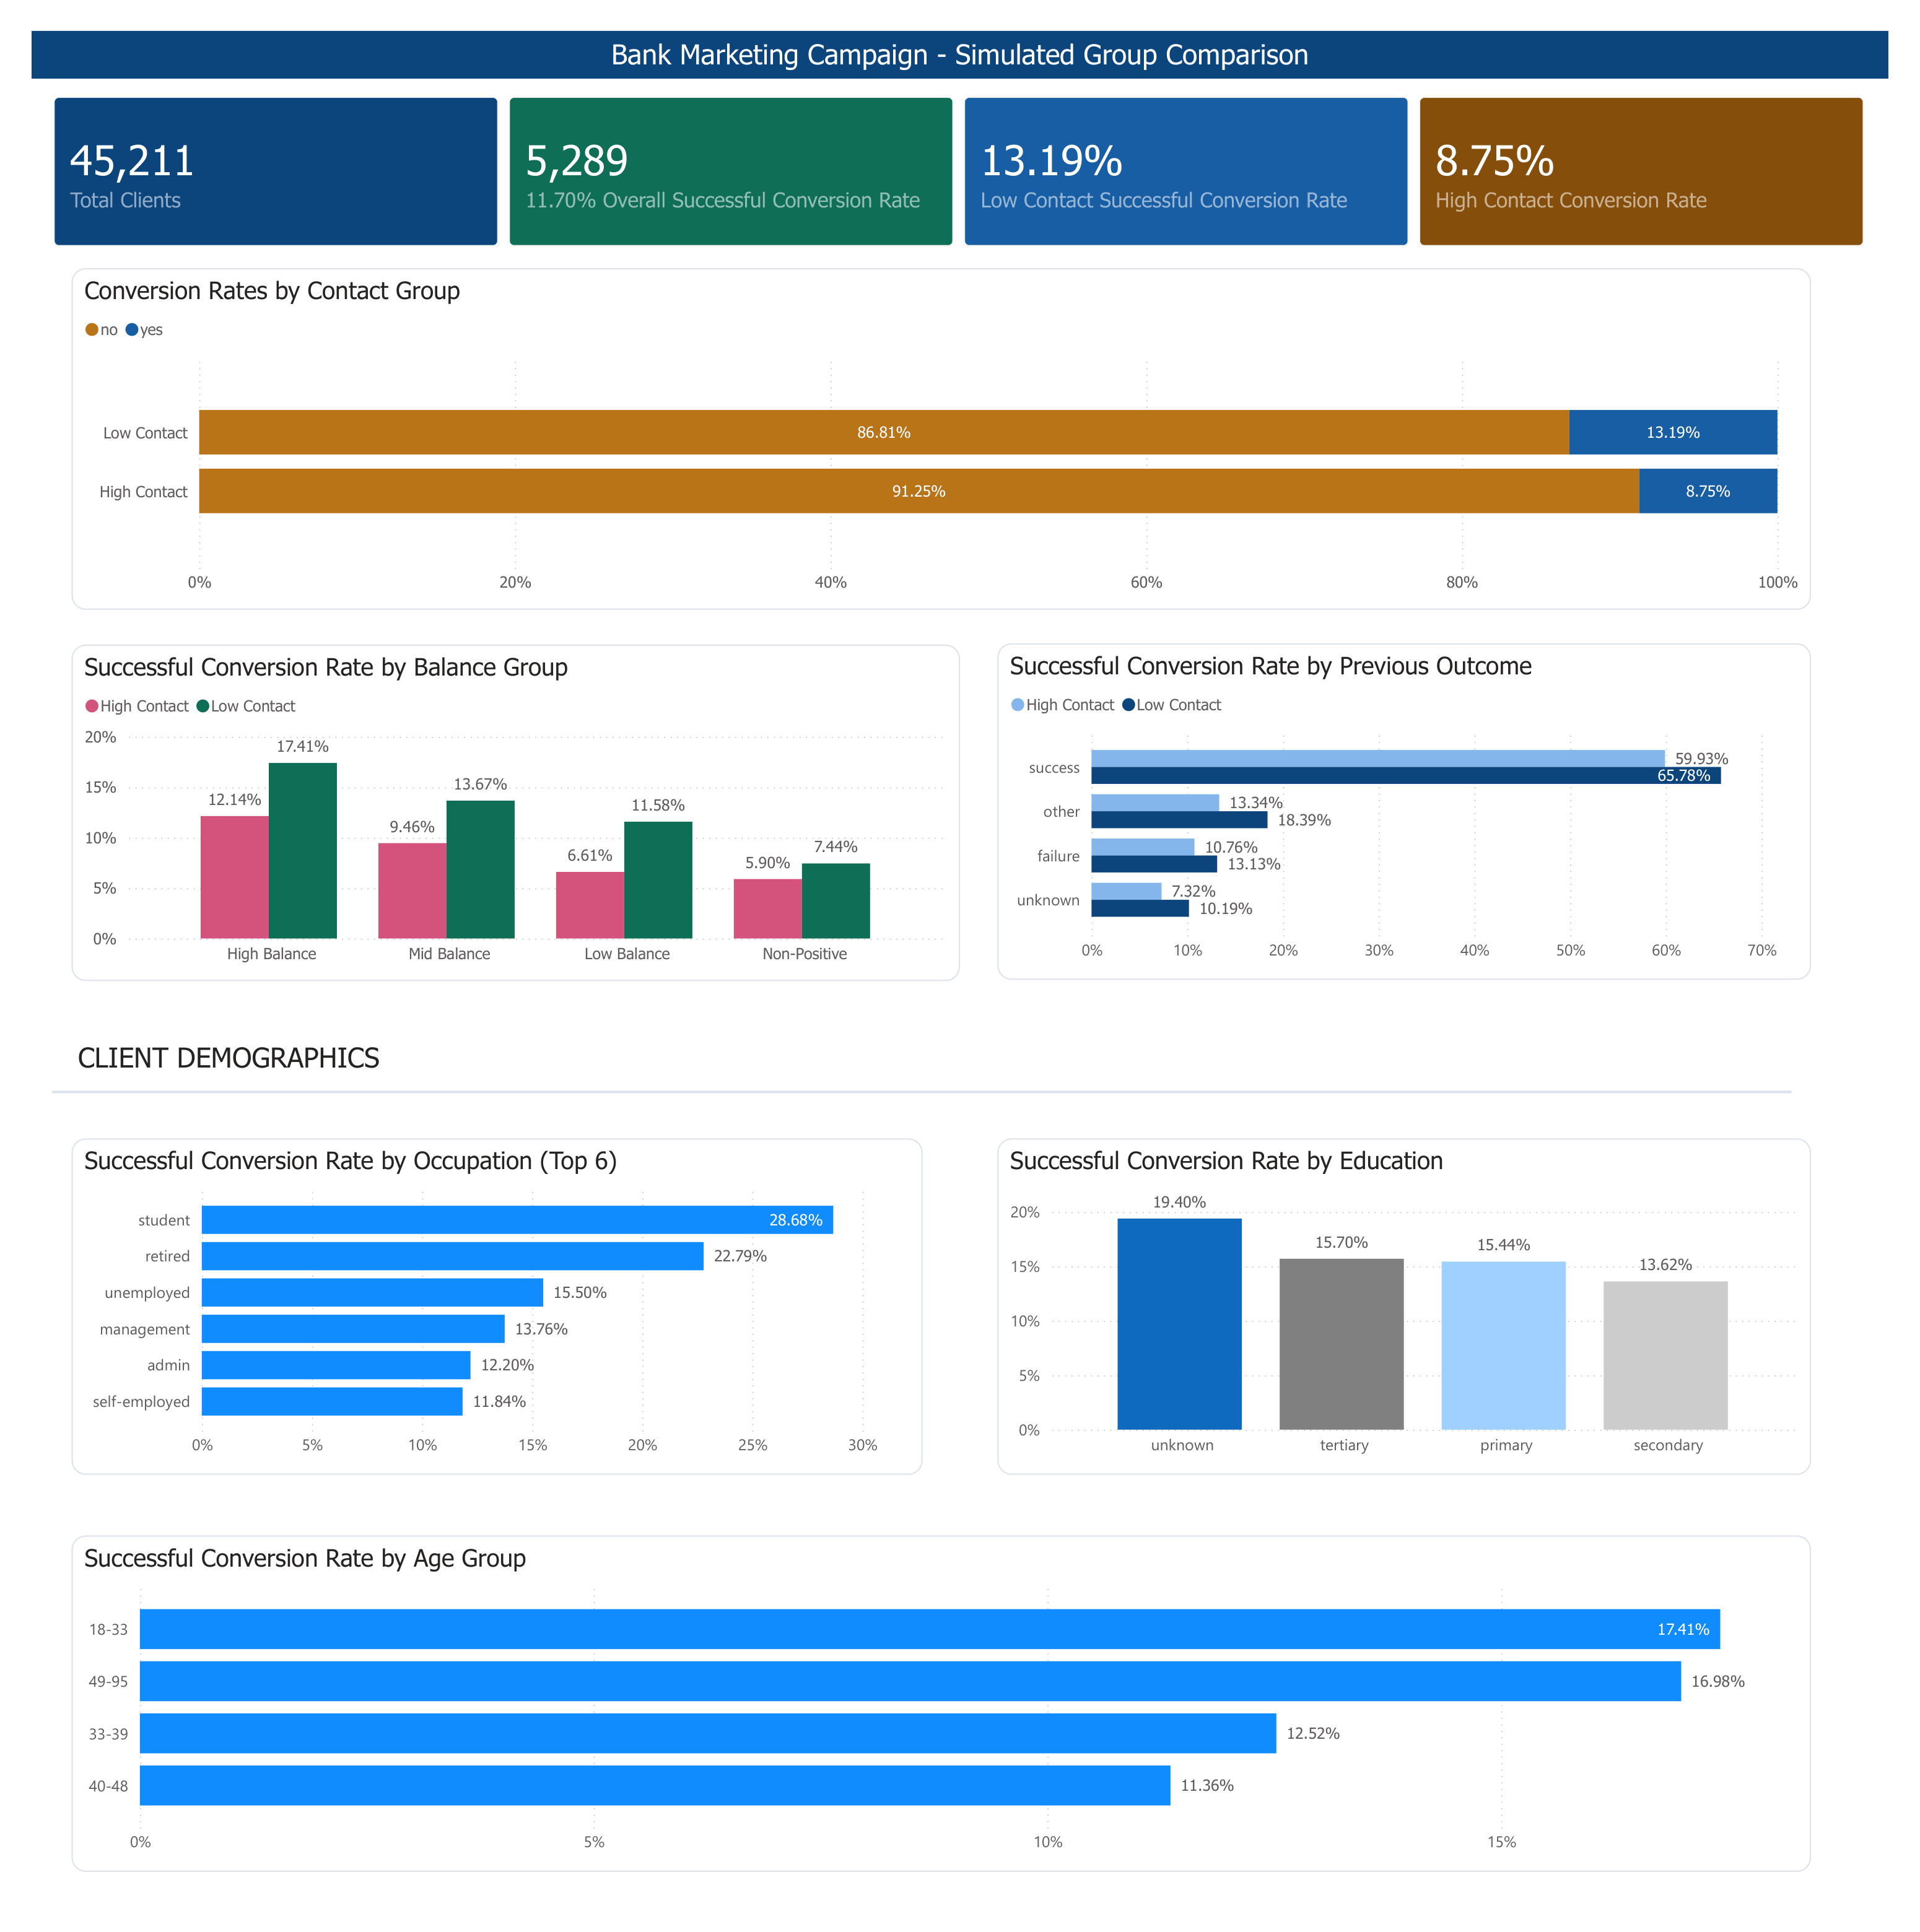

The dashboard page shown, as its layout file describes it:
{"tool":"powerbi","page":{"name":"A/B TESTING DASHBOARD","canvas":[1440,1450],"ordinal":0},"visuals":[{"type":"textbox","box":[0,0,1440,37],"z":0},{"type":"cardVisual","fields":{"Data":["bank_marketing_dashboard.Total Clients","Sum(bank_marketing_dashboard.conversion)","bank_marketing_dashboard.Low Contact Conversion Rate","bank_marketing_dashboard.High Contact Conversion Rate"]},"box":[0,33.8,1440,150],"z":1000},{"type":"hundredPercentStackedBarChart","title":"Conversion Rates by Contact Group","fields":{"Category":["bank_marketing_dashboard.contact_group"],"Series":["bank_marketing_dashboard.y"],"Y":["bank_marketing_dashboard.Total Clients"]},"box":[31.2,183.8,1348.8,265],"z":2000},{"type":"clusteredColumnChart","title":"Successful Conversion Rate by Balance Group","fields":{"Y":["bank_marketing_dashboard.Conversion Rate"],"Series":["bank_marketing_dashboard.contact_group"],"Category":["bank_marketing_dashboard.balance_group"]},"box":[31.1,475.6,688.9,261.1],"z":3000},{"type":"clusteredBarChart","title":"Successful Conversion Rate by Previous Outcome","fields":{"Y":["bank_marketing_dashboard.Conversion Rate"],"Series":["bank_marketing_dashboard.contact_group"],"Category":["bank_marketing_dashboard.poutcome"]},"box":[748.8,475,631.2,261.2],"z":4000},{"type":"textbox","box":[31.2,777.5,660,45],"z":5000},{"type":"shape","box":[16.2,747.5,1348.8,150],"z":6000},{"type":"clusteredBarChart","title":"Successful Conversion Rate by Occupation (Top 6)","fields":{"Y":["bank_marketing_dashboard.Conversion Rate"],"Category":["bank_marketing_dashboard.job"]},"box":[31.1,858.9,660,261.1],"z":7000},{"type":"columnChart","title":"Successful Conversion Rate by Education","fields":{"Y":["bank_marketing_dashboard.Conversion Rate"],"Category":["bank_marketing_dashboard.education"]},"box":[748.8,858.8,631.2,261.2],"z":8000},{"type":"clusteredBarChart","title":"Successful Conversion Rate by Age Group","fields":{"Y":["bank_marketing_dashboard.Conversion Rate"],"Category":["bank_marketing_dashboard.age_group"]},"box":[31.1,1166.7,1348.9,261.1],"z":9000}]}

Visuals, with their boxes in screenshot pixels (x1, y1, x2, y2), scaled from the page's 1440x1450 canvas onto the 1920x1932 screenshot:
textbox: bbox(0, 0, 1919, 50)
cardVisual - bank_marketing_dashboard.Total Clients x Sum(bank_marketing_dashboard.conversion): bbox(0, 45, 1919, 245)
"Conversion Rates by Contact Group" hundredPercentStackedBarChart: bbox(41, 245, 1840, 598)
"Successful Conversion Rate by Balance Group" clusteredColumnChart: bbox(41, 633, 960, 981)
"Successful Conversion Rate by Previous Outcome" clusteredBarChart: bbox(998, 633, 1840, 981)
textbox: bbox(41, 1036, 922, 1096)
shape: bbox(22, 996, 1820, 1196)
"Successful Conversion Rate by Occupation (Top 6)" clusteredBarChart: bbox(41, 1144, 922, 1492)
"Successful Conversion Rate by Education" columnChart: bbox(998, 1144, 1840, 1492)
"Successful Conversion Rate by Age Group" clusteredBarChart: bbox(41, 1554, 1840, 1902)
